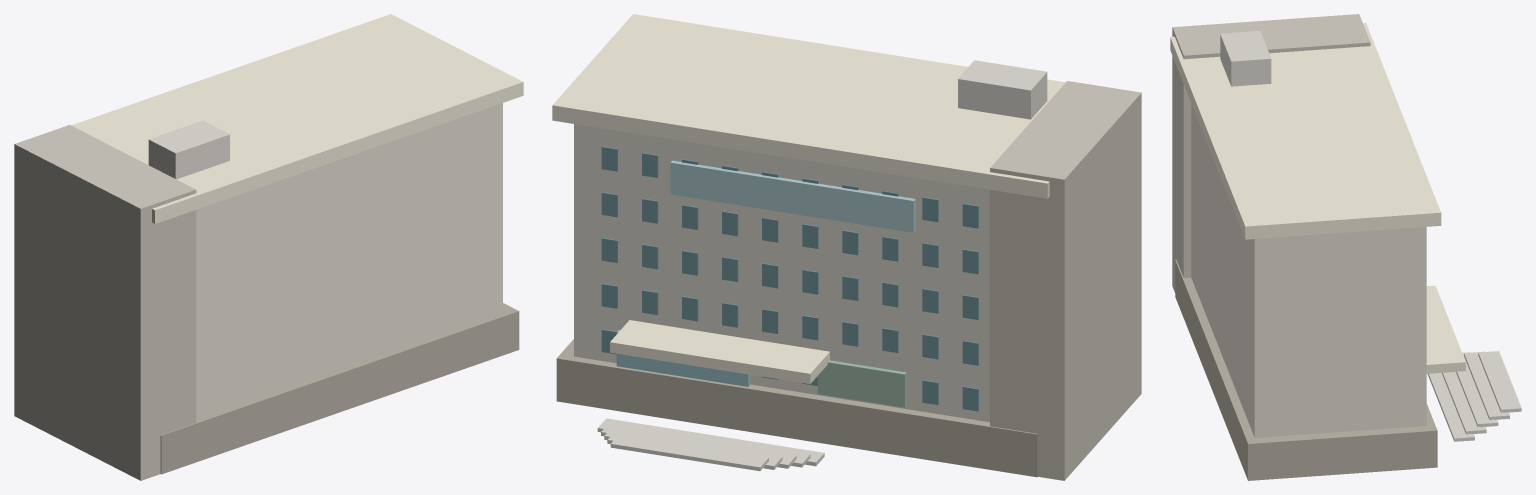
The model's file is neutbom-overview.glb.
3 views of the same model, side by side, from view 1: azimuth 30°, elevation 25°; view 2: azimuth 150°, elevation 25°; view 3: azimuth 270°, elevation 25° (orthographic). The views are drawn at different scales.
Bounding box in the file's own units: 30.3 × 18.98 × 21.54.
